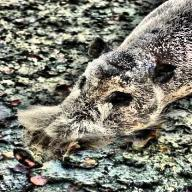boar: (5, 0, 192, 173)
